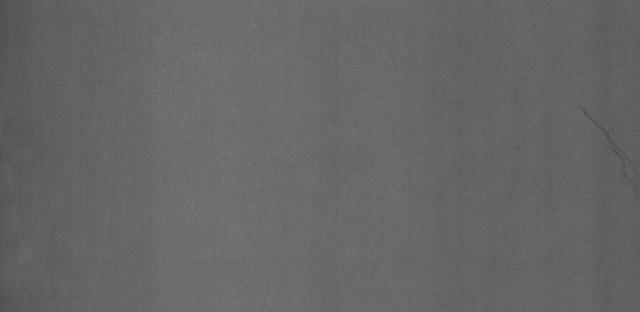water_spot: (573, 97, 640, 184)
